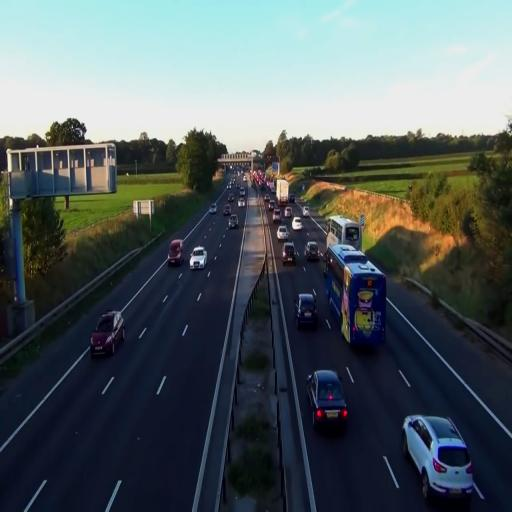vehicle: (324, 242, 386, 349), (402, 414, 474, 503), (307, 369, 348, 430), (90, 310, 125, 357), (294, 292, 318, 330), (305, 239, 325, 262), (168, 238, 183, 266), (190, 246, 208, 269), (282, 242, 296, 266), (276, 222, 292, 242), (228, 214, 238, 230)
